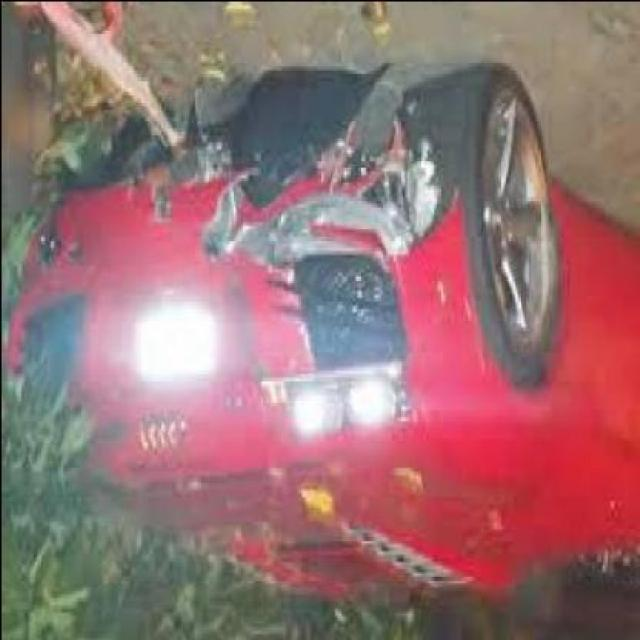damage: (116, 68, 457, 268)
